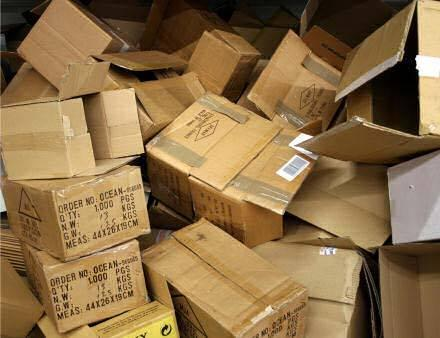cardboard: (144, 219, 361, 336), (147, 94, 311, 245), (287, 119, 423, 247), (5, 164, 149, 259), (0, 98, 141, 178), (17, 0, 111, 95), (302, 117, 439, 163), (379, 242, 439, 337), (188, 29, 259, 101), (387, 150, 439, 243), (83, 89, 143, 158)
